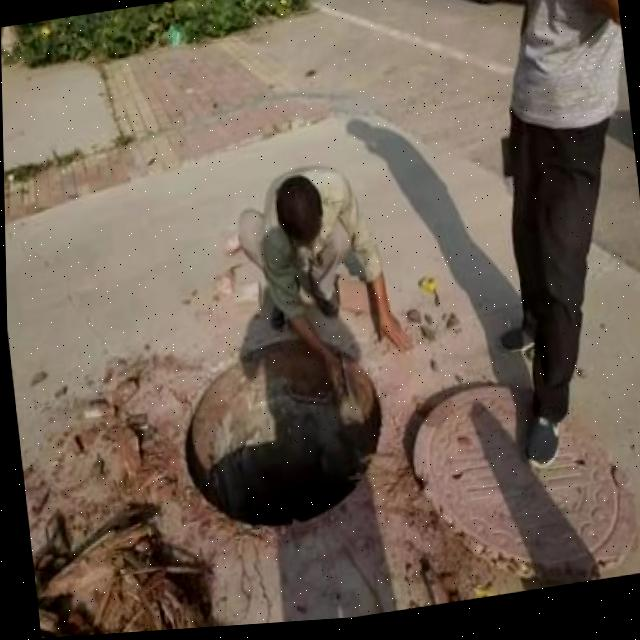manhole: (160, 315, 393, 543)
